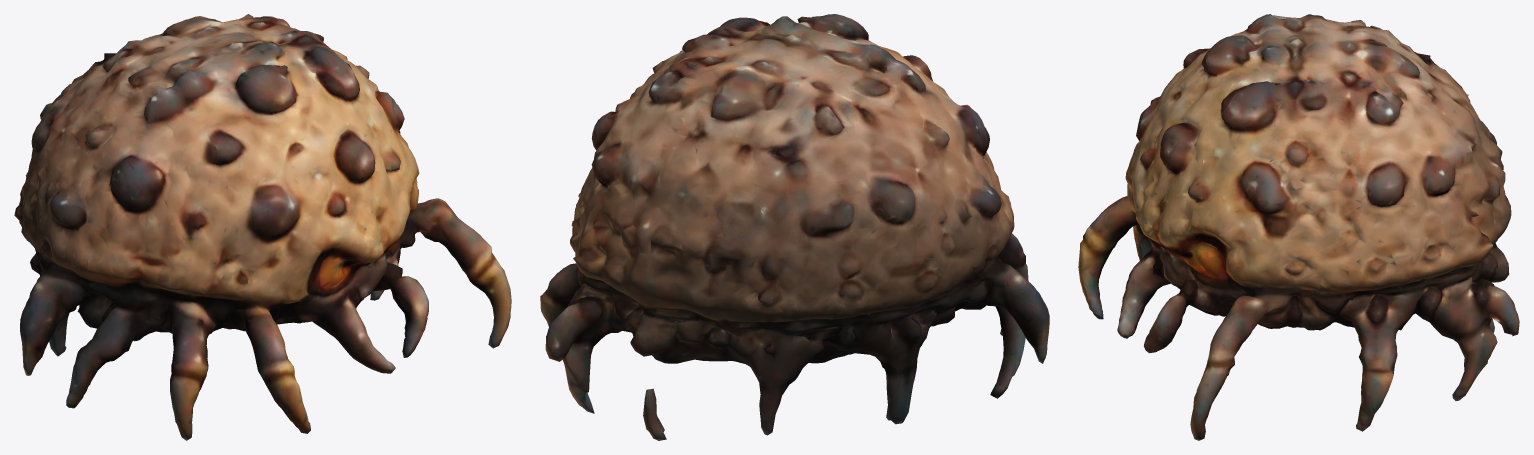
The model's file is crumb.glb.
3 views of the same model, side by side, from view 1: azimuth 30°, elevation 25°; view 2: azimuth 150°, elevation 25°; view 3: azimuth 270°, elevation 25° (orthographic). The views are drawn at different scales.
Visible parts, largest first — view 1: world; view 2: world; view 3: world.
Part boxes in pixels (box(x1,y1,x2,y2)): world: box(14, 14, 511, 440); world: box(540, 14, 1049, 440); world: box(1078, 14, 1519, 440).
Bounding box in the file's own units: 1.02 × 0.7035 × 0.8953.
1 material, 1 textured.
